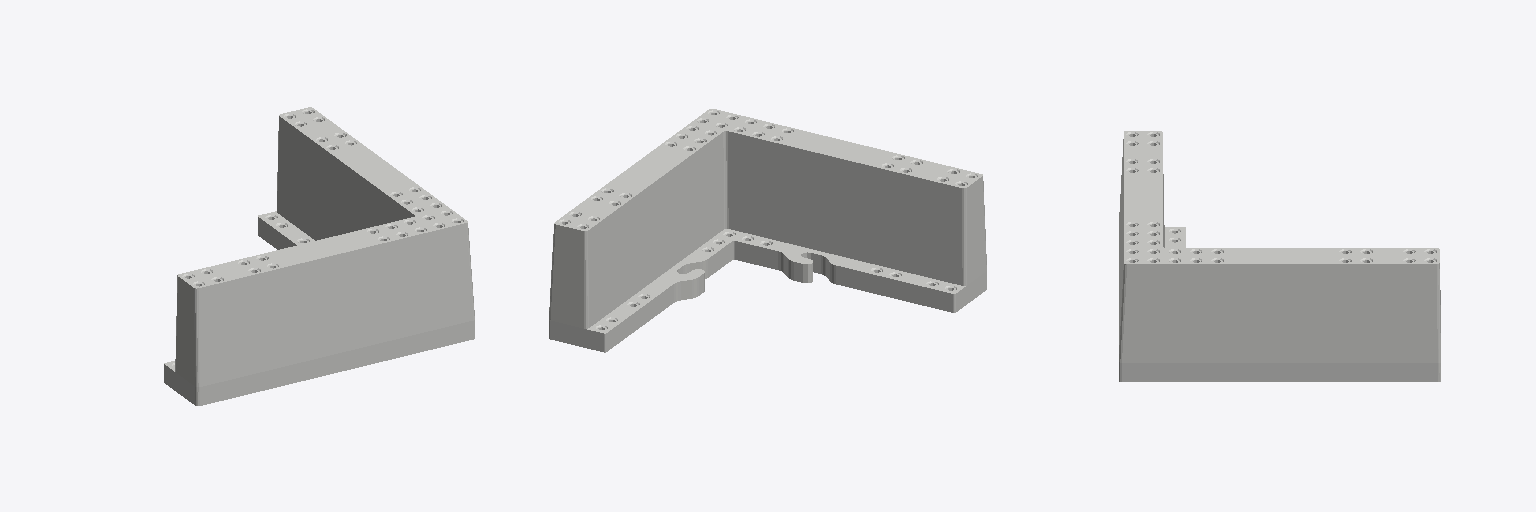
File: VIQRC-MixAndMatch-H2H-_-GameObjects_Corner.obj
3 views of the same model, side by side, from view 1: azimuth 30°, elevation 25°; view 2: azimuth 150°, elevation 25°; view 3: azimuth 270°, elevation 25° (orthographic).
Parts seen in each view (by area): view 1: Body1; view 2: Body1; view 3: Body1.
Boxes of the visible parts, x1,y1,x2,y2 form: Body1: [164, 107, 474, 405]; Body1: [549, 109, 986, 352]; Body1: [1119, 131, 1440, 381].
Size of the model in its own units: 192 by 76.08 by 192.